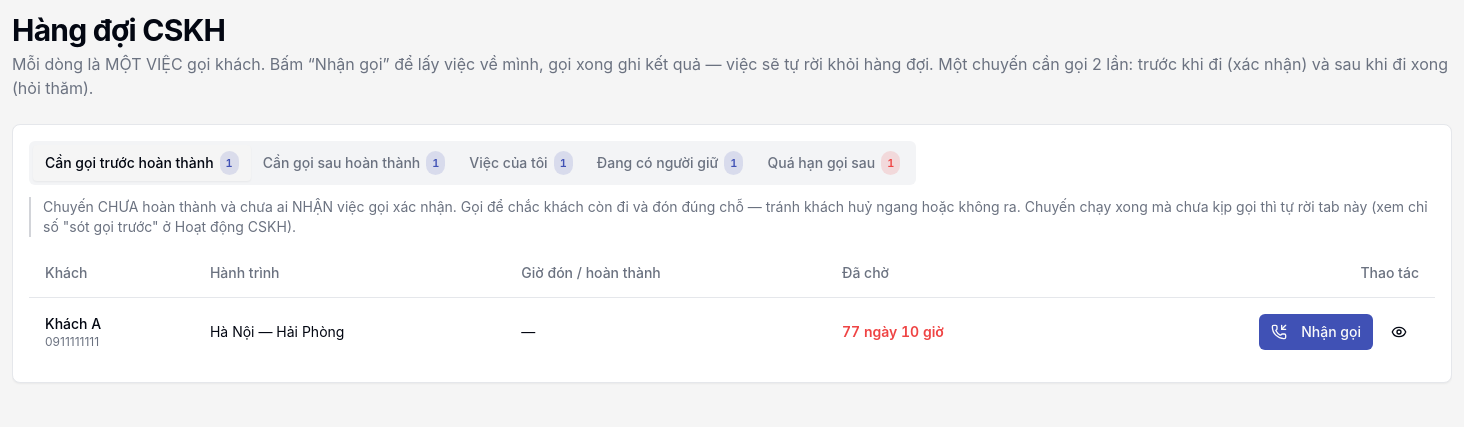
Test: CrmQueuePage — trạng thái rỗng › xử lý nốt việc CUỐI: bảng phải RỖNG, không giữ lại dòng vừa xử lý
Click the button "Nhận gọi". click: (1316, 332)
box: x1=1259 y1=314 x2=1373 y2=350
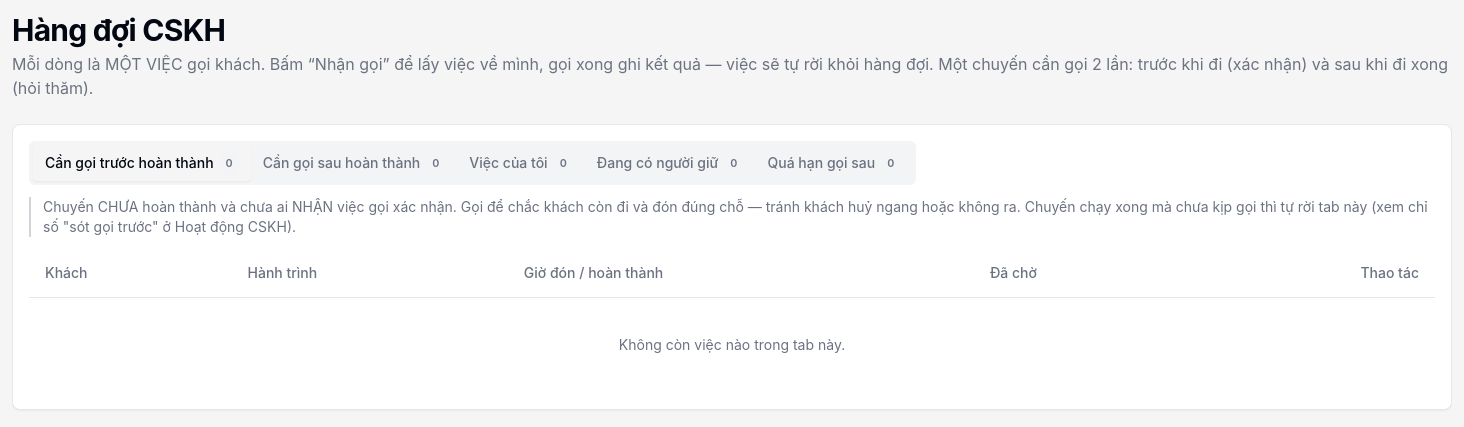
expect the text "Khách A" is gone: met
expect the text "Không còn việc nào trong tab này." is shown: met, box x1=29 y1=297 x2=1435 y2=393
